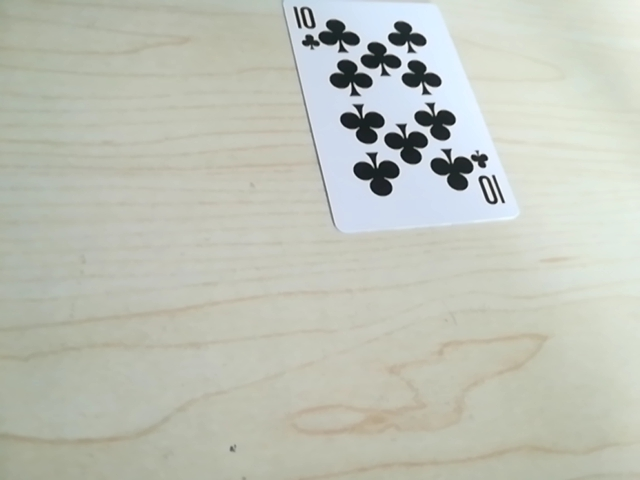mh 10: (464, 163, 505, 212), (289, 5, 327, 51)
